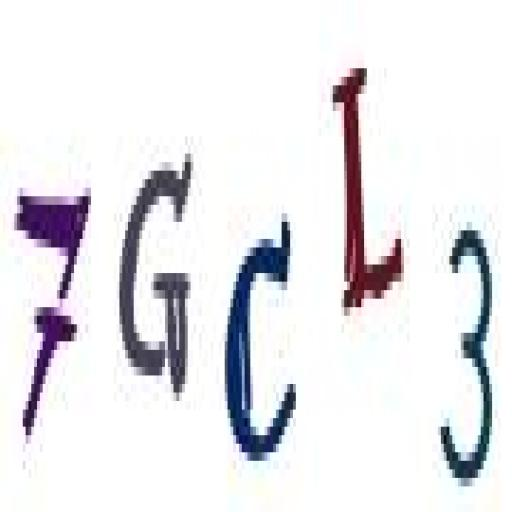3: (440, 214, 497, 488)
7: (11, 169, 93, 449)
G: (118, 142, 197, 410)
L: (327, 60, 411, 338)
c: (220, 208, 300, 476)
